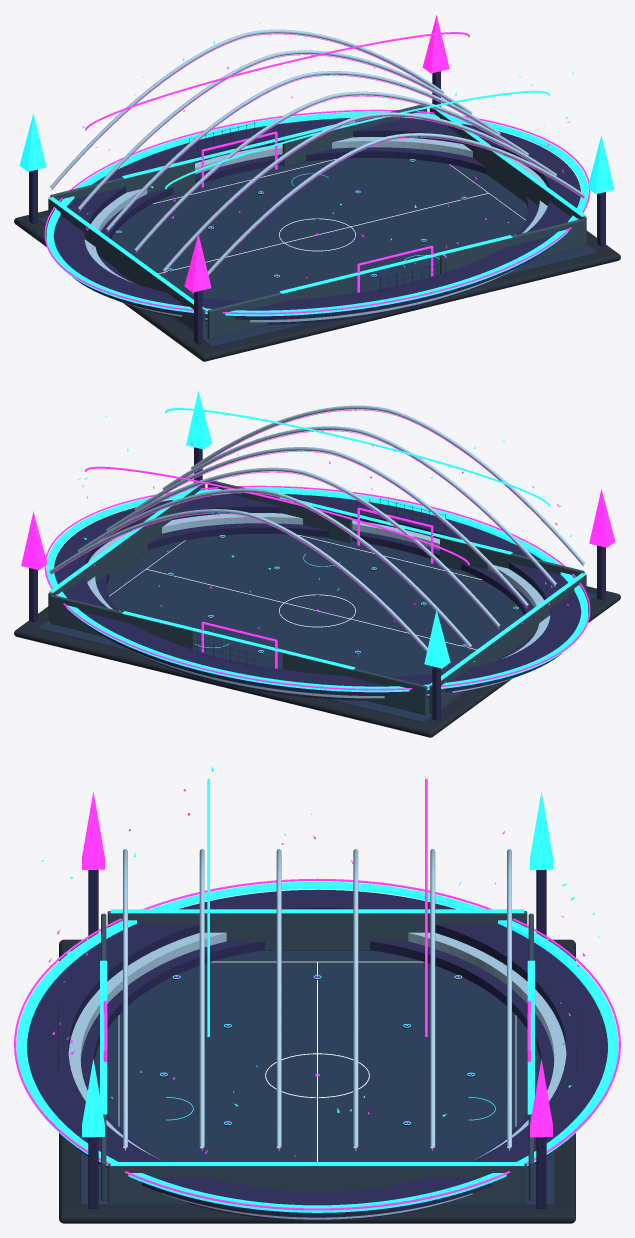
The model's file is aurora-skydome.glb.
3 renders of one model, top to bottom at view 1: azimuth 30°, elevation 25°; view 2: azimuth 150°, elevation 25°; view 3: azimuth 270°, elevation 25°, orthographic. The views are drawn at different scales.
Visible parts, largest first — view 1: Aurora SkyDome • regulation pitch, Aurora • amethyst grandstand upper tier, Aurora • outer docking halo, Aurora SkyDome • floating foundation, Aurora • indigo grandstand lower tier, Aurora • sapphire grandstand middle tier, Aurora SkyDome • end rebound wing -1 -1, Aurora SkyDome • end rebound wing 1 -1, Aurora SkyDome • side rebound rail 1, Aurora • magenta stadium circumference, Aurora SkyDome • side rebound rail -1, Aurora SkyDome • end rebound wing -1 1 (+18 smaller); view 2: Aurora SkyDome • regulation pitch, Aurora • amethyst grandstand upper tier, Aurora SkyDome • floating foundation, Aurora • outer docking halo, Aurora • indigo grandstand lower tier, Aurora • sapphire grandstand middle tier, Aurora SkyDome • end rebound wing -1 1, Aurora SkyDome • end rebound wing 1 1, Aurora SkyDome • side rebound rail 1, Aurora • magenta stadium circumference, Aurora SkyDome • side rebound rail -1, Aurora SkyDome • end rebound wing -1 -1 (+19 smaller); view 3: Aurora SkyDome • regulation pitch, Aurora • amethyst grandstand upper tier, Aurora • outer docking halo, Aurora SkyDome • floating foundation, Aurora SkyDome • side rebound rail 1, Aurora SkyDome • side rebound rail -1, Aurora • indigo grandstand lower tier, Aurora • sapphire grandstand middle tier, Aurora • magenta stadium circumference, Aurora SkyDome • gold/cyan side-cap light -1, Aurora • sky-dome arch -3, Aurora • sky-dome arch 3 (+18 smaller).
Boxes of the visible parts, <box> form: Aurora SkyDome • regulation pitch: <box>38,158,597,346</box>; Aurora • amethyst grandstand upper tier: <box>54,118,580,319</box>; Aurora • outer docking halo: <box>46,111,588,316</box>; Aurora SkyDome • floating foundation: <box>14,210,620,361</box>; Aurora • indigo grandstand lower tier: <box>99,147,538,324</box>; Aurora • sapphire grandstand middle tier: <box>84,137,547,322</box>; Aurora SkyDome • end rebound wing -1 -1: <box>207,277,352,338</box>; Aurora SkyDome • end rebound wing 1 -1: <box>440,218,584,273</box>; Aurora SkyDome • side rebound rail 1: <box>429,107,586,244</box>; Aurora • magenta stadium circumference: <box>44,109,590,314</box>; Aurora SkyDome • side rebound rail -1: <box>48,197,205,338</box>; Aurora SkyDome • end rebound wing -1 1: <box>50,161,194,201</box>; Aurora SkyDome • regulation pitch: <box>37,534,596,722</box>; Aurora • amethyst grandstand upper tier: <box>54,494,580,695</box>; Aurora SkyDome • floating foundation: <box>14,586,620,737</box>; Aurora • outer docking halo: <box>46,487,588,692</box>; Aurora • indigo grandstand lower tier: <box>96,523,535,700</box>; Aurora • sapphire grandstand middle tier: <box>87,513,550,698</box>; Aurora SkyDome • end rebound wing -1 1: <box>282,653,427,714</box>; Aurora SkyDome • end rebound wing 1 1: <box>50,594,194,649</box>; Aurora SkyDome • side rebound rail 1: <box>48,483,205,620</box>; Aurora • magenta stadium circumference: <box>44,485,590,690</box>; Aurora SkyDome • side rebound rail -1: <box>429,573,586,714</box>; Aurora SkyDome • end rebound wing -1 -1: <box>440,537,584,577</box>; Aurora SkyDome • regulation pitch: <box>80,950,554,1204</box>; Aurora • amethyst grandstand upper tier: <box>27,889,607,1217</box>; Aurora • outer docking halo: <box>16,881,618,1212</box>; Aurora SkyDome • floating foundation: <box>59,939,575,1223</box>; Aurora SkyDome • side rebound rail 1: <box>107,1163,527,1203</box>; Aurora SkyDome • side rebound rail -1: <box>107,911,527,950</box>; Aurora • indigo grandstand lower tier: <box>81,941,553,1221</box>; Aurora • sapphire grandstand middle tier: <box>68,932,566,1219</box>; Aurora • magenta stadium circumference: <box>14,878,620,1210</box>; Aurora SkyDome • gold/cyan side-cap light -1: <box>110,909,524,913</box>; Aurora • sky-dome arch -3: <box>276,849,281,1148</box>; Aurora • sky-dome arch 3: <box>353,849,358,1148</box>.
Bounding box in the file's own units: 61.07 × 18.51 × 47.41.
